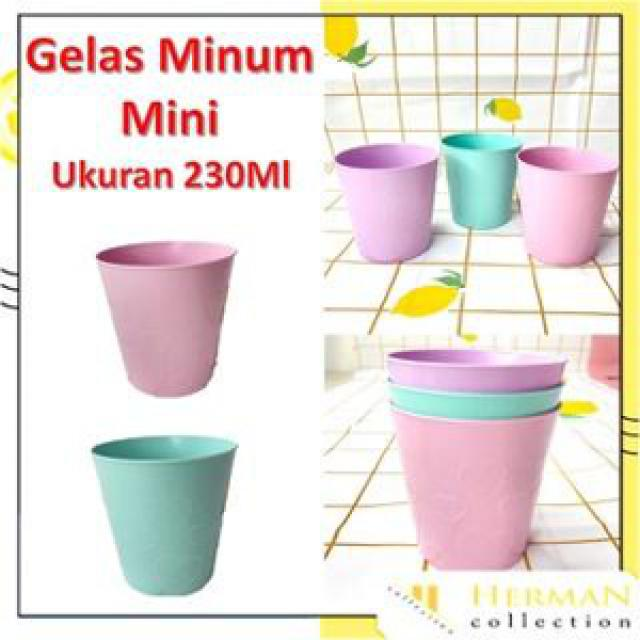plastic cup: (378, 335, 572, 578), (88, 424, 243, 604), (92, 235, 247, 401), (328, 128, 442, 265), (508, 143, 618, 279), (437, 126, 525, 235)
